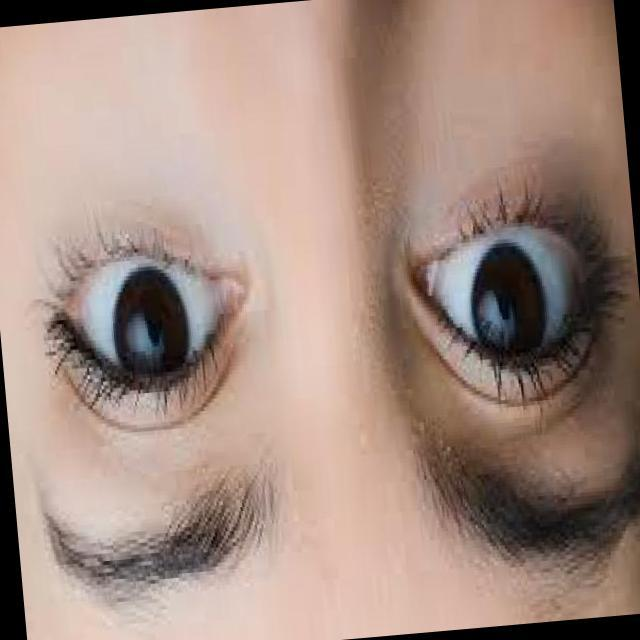Normal: (360, 138, 640, 485), (18, 143, 318, 415)
